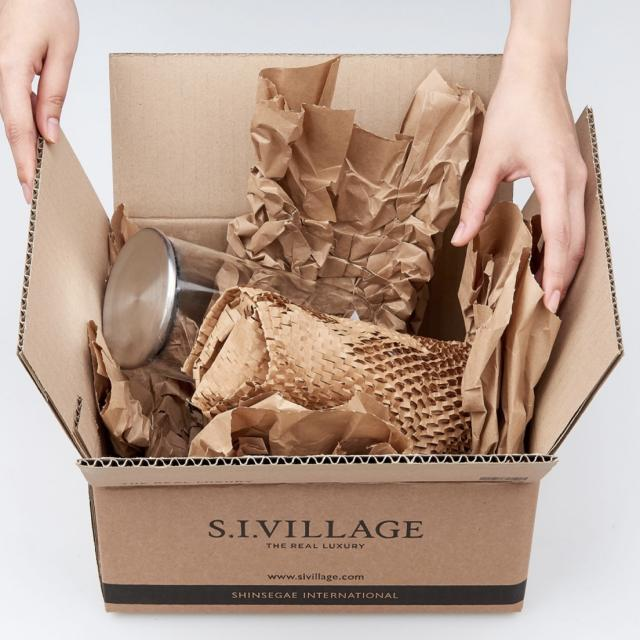biodegradable: (14, 25, 635, 638), (221, 55, 478, 279), (202, 300, 468, 438)
